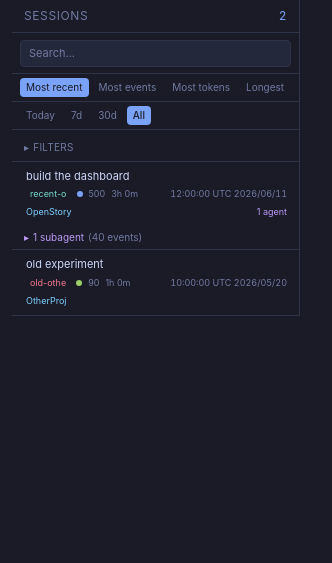
Test: when a facet is clicked › should narrow the session list to matching parents
expect the button with test id "explore-session-recent-openstory" is shown: met, box [12,162,299,226]
expect the button with test id "explore-session-old-otherproj" is shown: met, box [12,250,299,315]
# Facet: user "katie" (facet rows carry data-facet testids).
What coordinates should you click on to do the following:
click the button with test id "facets-toggle"
I would click on:
 (53, 146)
Its box is [12,138,299,160].
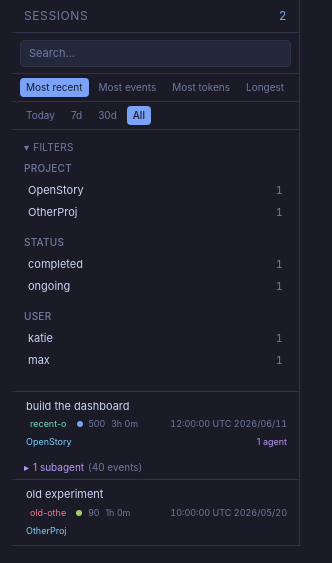
What coordinates should you click on to do the following:
click the button with test id "facet-user-katie"
I would click on:
 (40, 338)
Its box is [20,328,291,348].
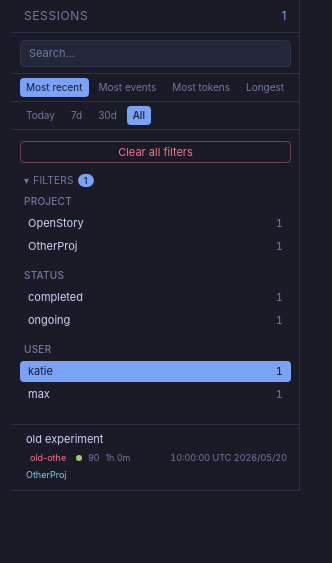
expect the button with test id "explore-session-old-otherproj" is shown: met, box [12,425,299,490]
expect the button with test id "explore-session-recent-openstory" is gone: met
